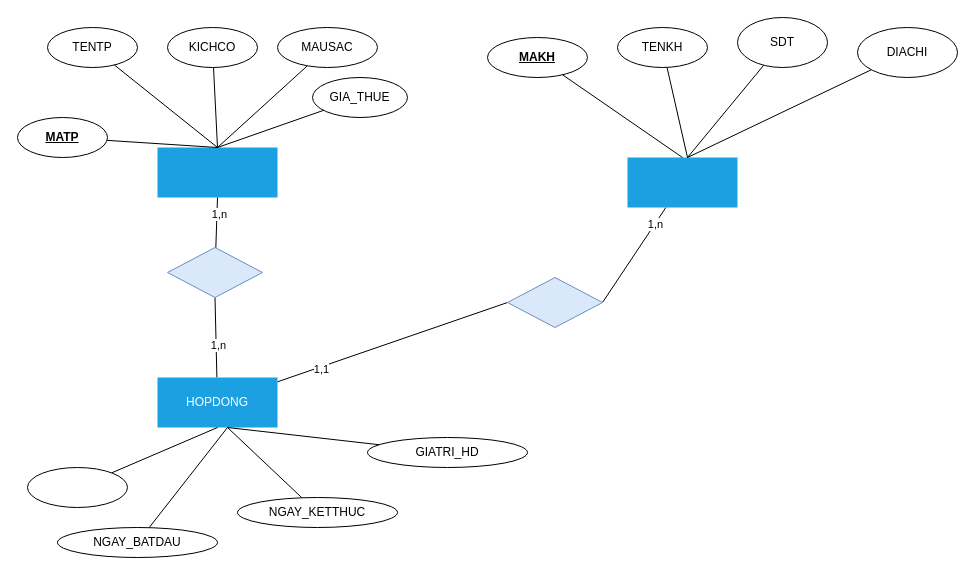
Image size: 975x575. Some labels were removed from this diagram. Here are the shapes that lost their labels. From the top down, the box of each, then its label:
(157, 147, 277, 197): TRANGPHUC
(627, 157, 737, 207): KHACHHANG
(166, 246, 262, 298): Có
(506, 276, 602, 328): THUE
(26, 466, 128, 508): MAHD
